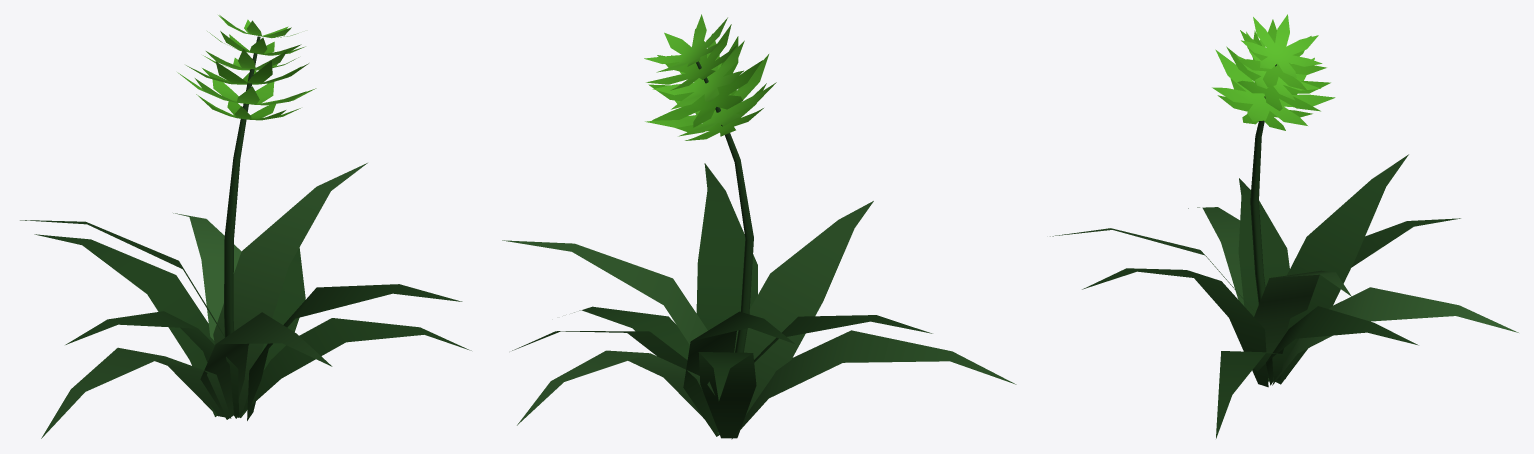
The model's file is green_flower.fbx.
3 views of the same model, side by side, from view 1: azimuth 30°, elevation 25°; view 2: azimuth 150°, elevation 25°; view 3: azimuth 270°, elevation 25° (orthographic). The views are drawn at different scales.
Parts seen in each view (by area): view 1: green_plant; view 2: green_plant; view 3: green_plant.
Boxes of the visible parts, x1=… form: green_plant: x1=20, y1=15, x2=471, y2=438; green_plant: x1=502, y1=14, x2=1016, y2=439; green_plant: x1=1050, y1=14, x2=1518, y2=438.
Bounding box in the file's own units: 9.14 × 7.86 × 9.11.
